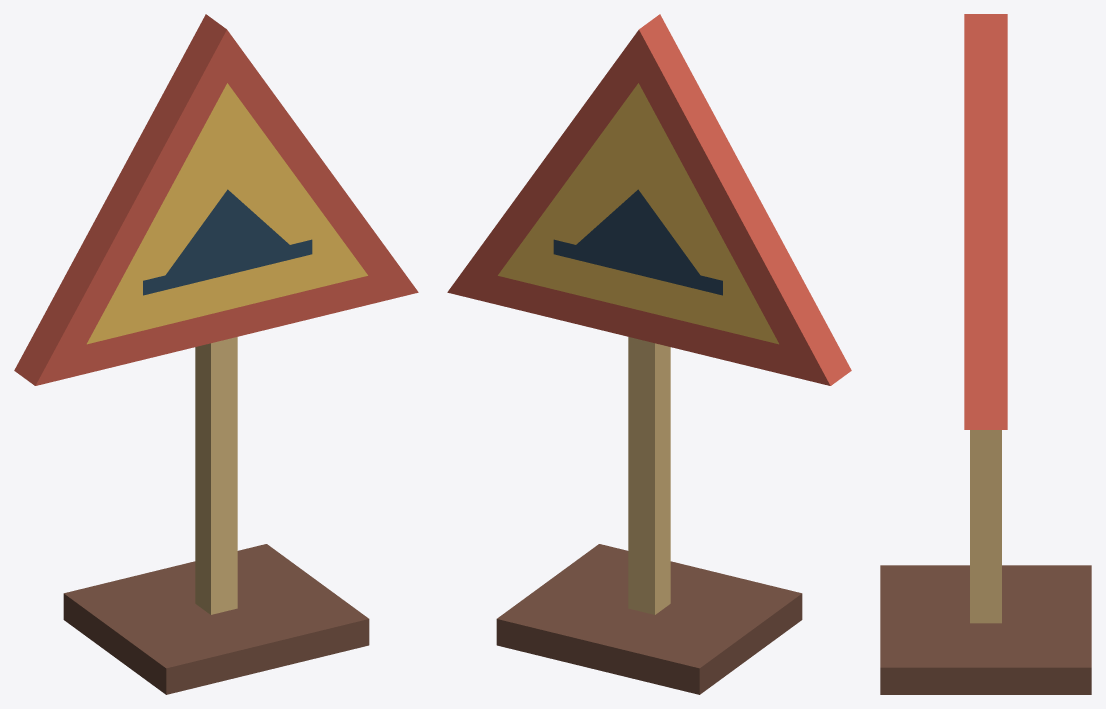
Rendered from warning-sign.glb.
The picture shows the model from 3 angles, left to right: view 1: azimuth 30°, elevation 25°; view 2: azimuth 150°, elevation 25°; view 3: azimuth 270°, elevation 25°; orthographic projection. The views are drawn at different scales.
Parts seen in each view (by area): view 1: warning-sign; view 2: warning-sign; view 3: warning-sign.
Boxes of the visible parts, <box> form: warning-sign: <box>14,14,418,694</box>; warning-sign: <box>447,14,851,694</box>; warning-sign: <box>880,14,1091,694</box>.
Size of the model in its own units: 1.36 by 2.07 by 0.63.
Materials: 1 (1 with a texture image).
